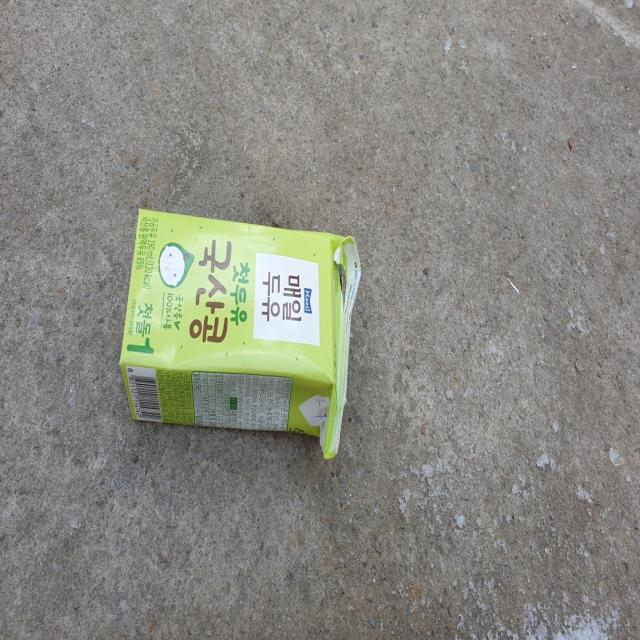paperpack: (119, 209, 361, 459)
